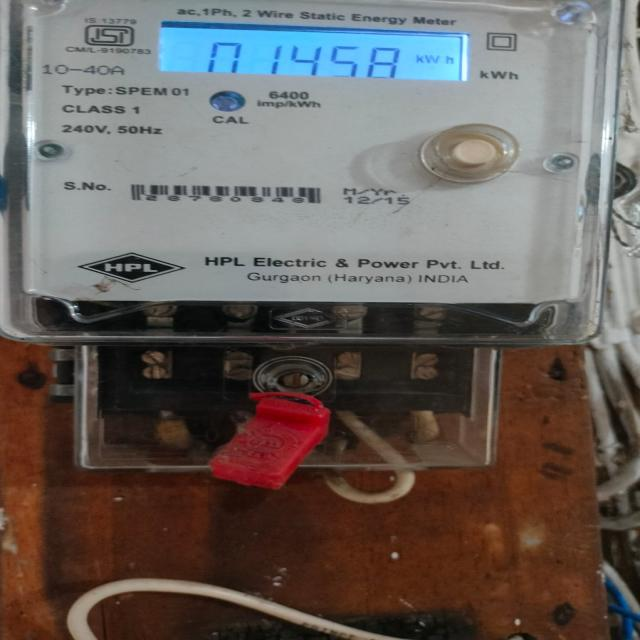display: (160, 24, 479, 86)
